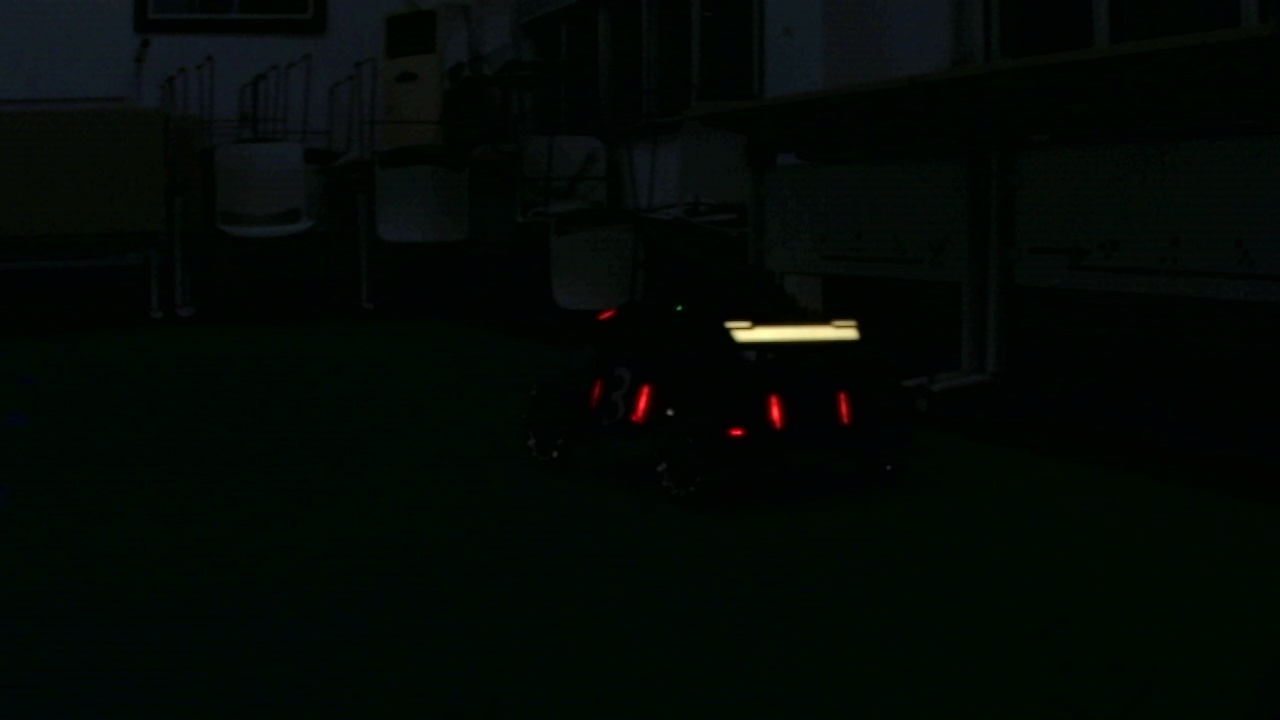lamp: (837, 382, 855, 431), (629, 380, 648, 426), (768, 383, 783, 428)
notpair1: (631, 382, 788, 432)
pair1: (767, 386, 856, 436)
